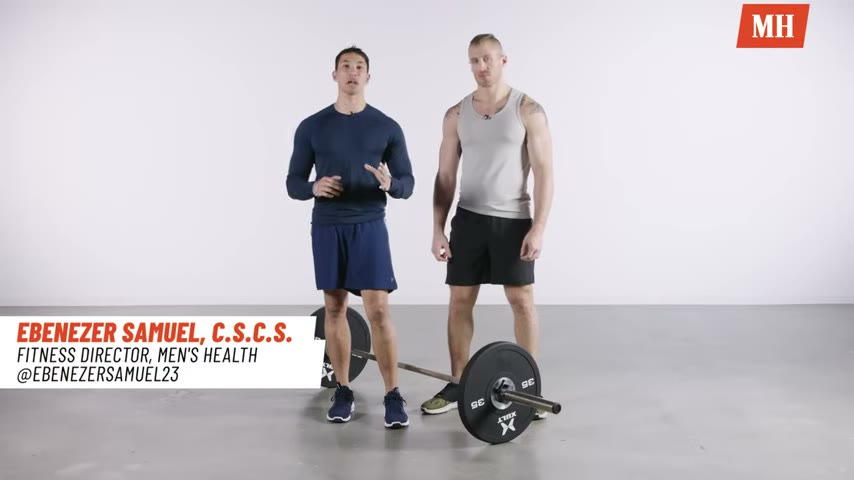barbell_plate_side: (503, 339, 563, 450)
